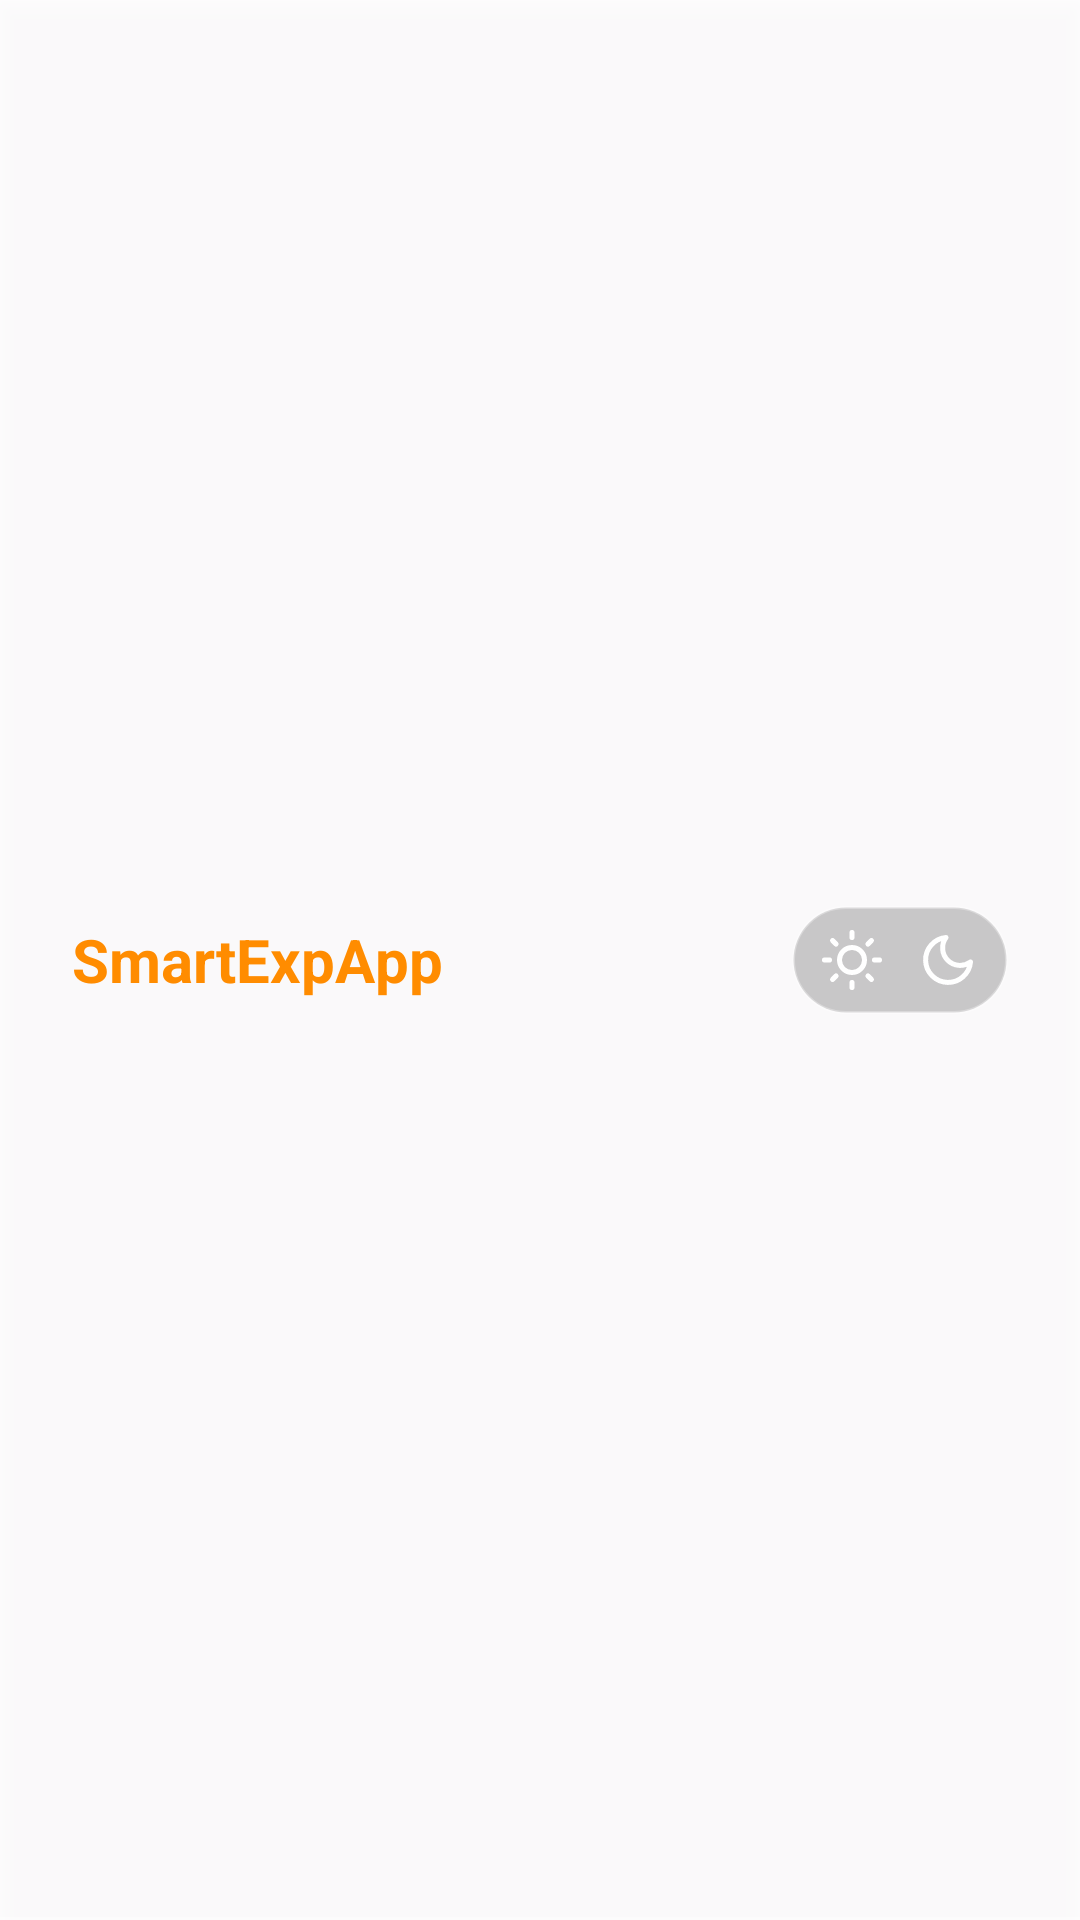

Where icons sit on this 1080 × 1920 app screen, as (left=x1, top=y1, right=x2, bottom=y2):
theme moon: (left=923, top=935, right=973, bottom=985)
theme sun: (left=822, top=930, right=882, bottom=990)
